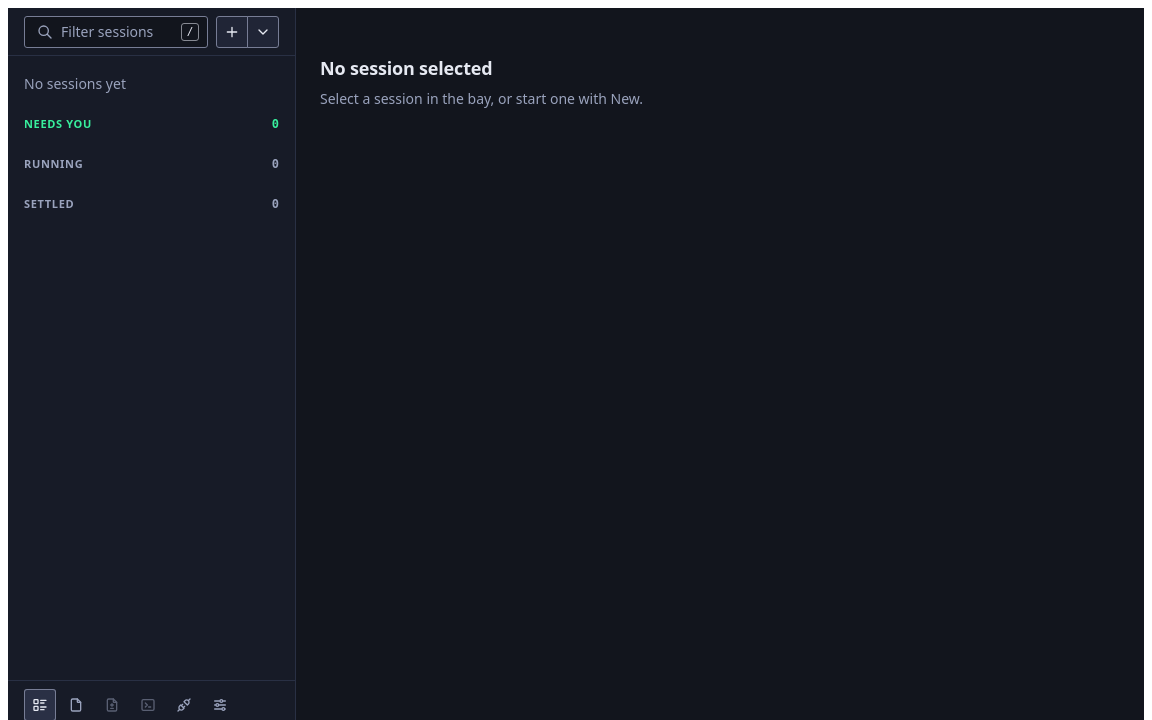
lays out the saved-session picker as a top-aligned panel
What coordinates should you click on to do the following:
click the button named "More ways to start a session"
I would click on:
 (263, 32)
Its box is [247,16,279,48].
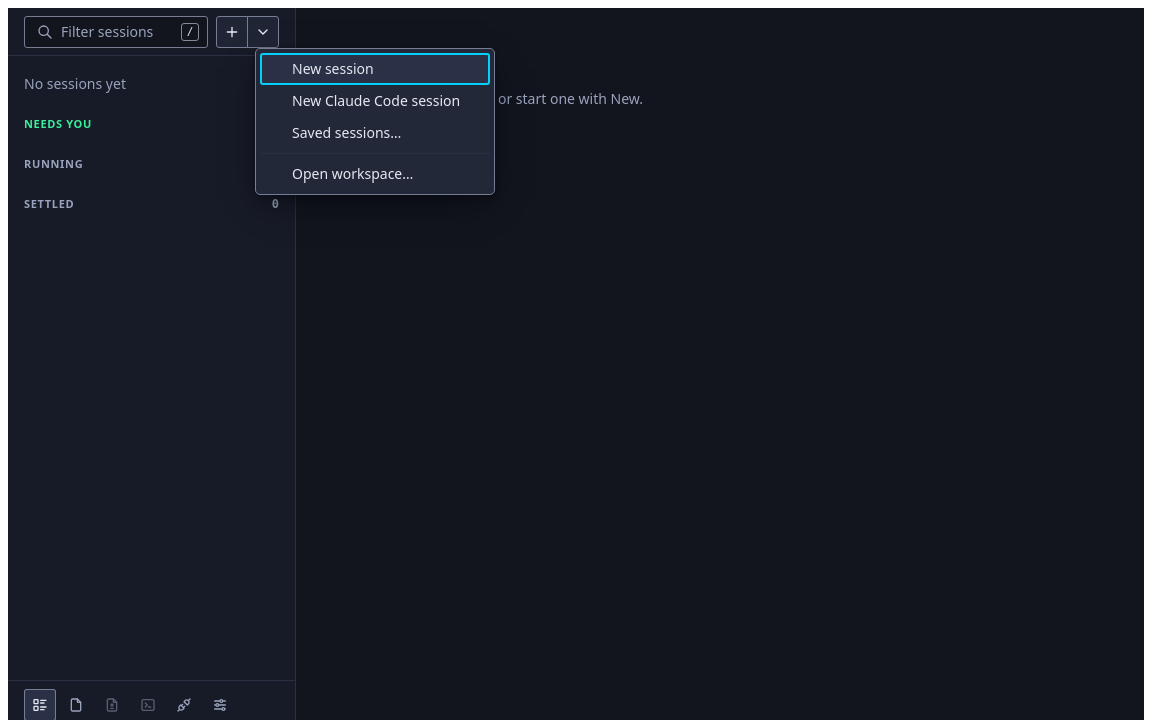
What coordinates should you click on to do the following:
click the menu item "Saved sessions…"
I would click on:
 (375, 133)
Its box is [260,117,490,149].
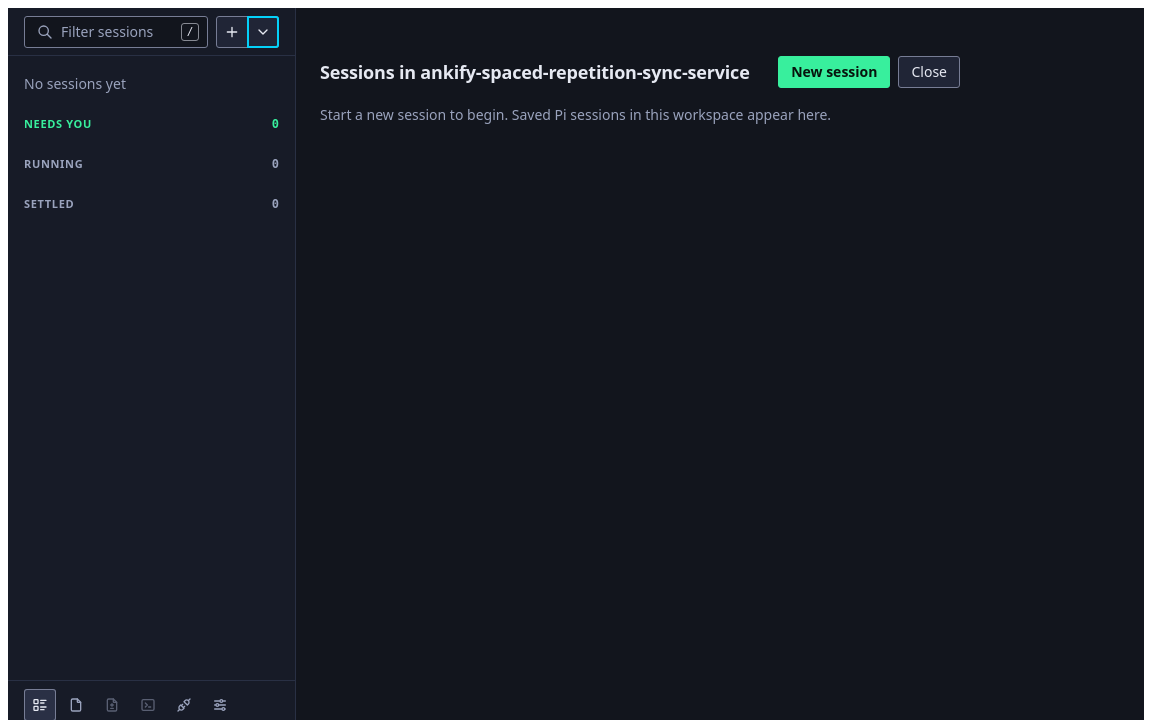
Now the heading "Sessions in ankify-spaced-repetition-sync-service" is shown, box [320,60,750,84]
Now the text "Start a new session to begin." is shown, box [320,105,831,124]
